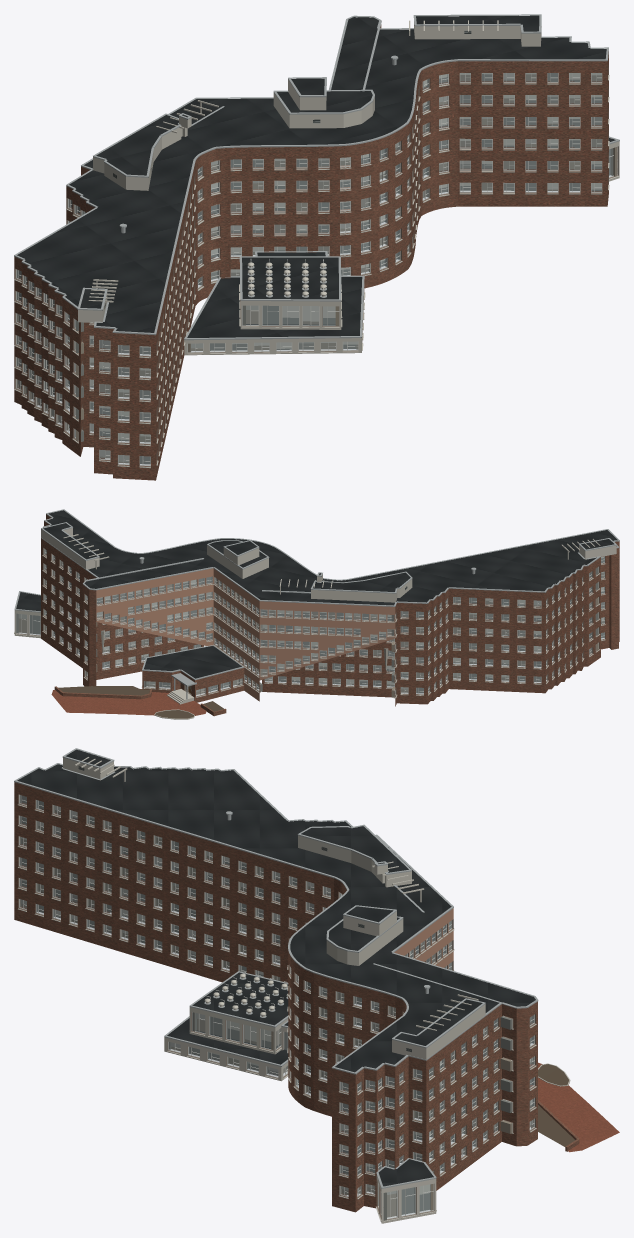
File: baker-full.glb
3 views of the same model, one above another, from view 1: azimuth 30°, elevation 25°; view 2: azimuth 150°, elevation 25°; view 3: azimuth 270°, elevation 25° (orthographic). The views are drawn at different scales.
Parts seen in each view (by area): view 1: Baker brick, Baker roof, Baker stone, Baker glass, Baker frame, Baker coping, Baker reveal, Baker room, Baker roomWarm, Baker shade, Baker glassLight, Baker frameLip (+1 smaller); view 2: Baker brick, Baker roof, Baker tile, Baker glass, Baker stone, Baker frame, Baker room, Baker reveal, Baker coping, Baker roomWarm, Baker north court ground paver, Baker glassLight (+6 smaller); view 3: Baker brick, Baker roof, Baker stone, Baker frame, Baker glass, Baker room, Baker coping, Baker reveal, Baker roomWarm, Baker glassLight, Baker north court ground paver, Baker shade (+4 smaller).
Boxes of the visible parts, left/top/right/bottom form: Baker brick: left=14, top=24, right=608, bottom=480; Baker roof: left=17, top=15, right=615, bottom=337; Baker stone: left=14, top=20, right=619, bottom=468; Baker glass: left=17, top=73, right=612, bottom=464; Baker frame: left=16, top=73, right=618, bottom=466; Baker coping: left=14, top=14, right=619, bottom=340; Baker reveal: left=15, top=64, right=618, bottom=466; Baker room: left=17, top=73, right=610, bottom=464; Baker roomWarm: left=17, top=74, right=616, bottom=463; Baker shade: left=18, top=73, right=601, bottom=440; Baker glassLight: left=17, top=73, right=601, bottom=463; Baker frameLip: left=19, top=73, right=617, bottom=465; Baker brick: left=41, top=514, right=619, bottom=706; Baker roof: left=16, top=510, right=617, bottom=678; Baker tile: left=96, top=568, right=395, bottom=701; Baker glass: left=30, top=556, right=604, bottom=693; Baker stone: left=14, top=528, right=616, bottom=698; Baker frame: left=16, top=548, right=604, bottom=696; Baker room: left=16, top=549, right=604, bottom=693; Baker reveal: left=16, top=548, right=605, bottom=697; Baker coping: left=14, top=509, right=619, bottom=699; Baker roomWarm: left=18, top=560, right=604, bottom=697; Baker north court ground paver: left=51, top=689, right=206, bottom=715; Baker glassLight: left=16, top=549, right=604, bottom=695; Baker brick: left=14, top=782, right=537, bottom=1212; Baker roof: left=17, top=749, right=535, bottom=1186; Baker stone: left=17, top=757, right=536, bottom=1223; Baker frame: left=19, top=794, right=534, bottom=1220; Baker glass: left=20, top=800, right=533, bottom=1215; Baker room: left=20, top=795, right=533, bottom=1220; Baker coping: left=14, top=748, right=538, bottom=1188; Baker reveal: left=18, top=794, right=535, bottom=1219; Baker roomWarm: left=20, top=805, right=533, bottom=1218; Baker glassLight: left=20, top=795, right=533, bottom=1218; Baker north court ground paver: left=529, top=1062, right=619, bottom=1152; Baker shade: left=20, top=805, right=532, bottom=1194.
Size of what is drawn, in the model's own units: 101 by 23.84 by 79.64.
19 materials, 3 textured.
